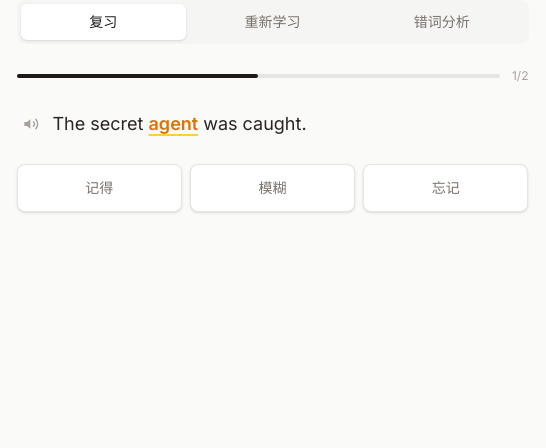
Test: failed review persistence › does not animate away or advance a word when saving fails
Click the button "记得".
click(99, 188)  # box [16,164,182,212]
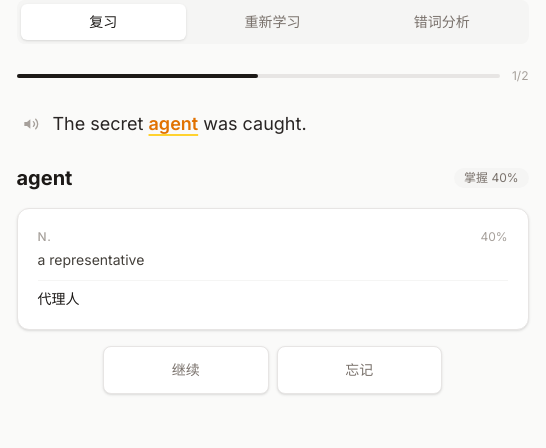
Click the button "继续".
click(186, 370)  # box [103,346,268,394]
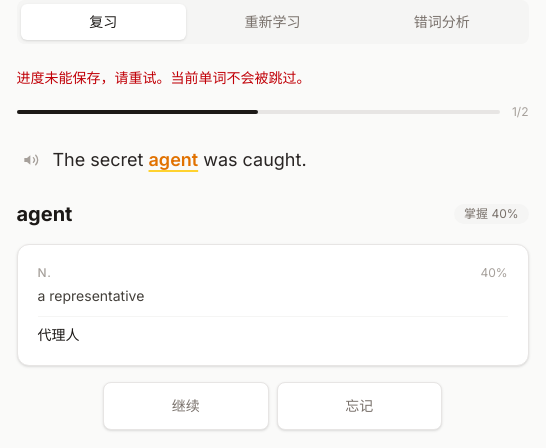
Expected: the heading "agent" is shown, [16,200,72,228]
Expected: the message shows "进度未能保存", [16,69,310,86]
